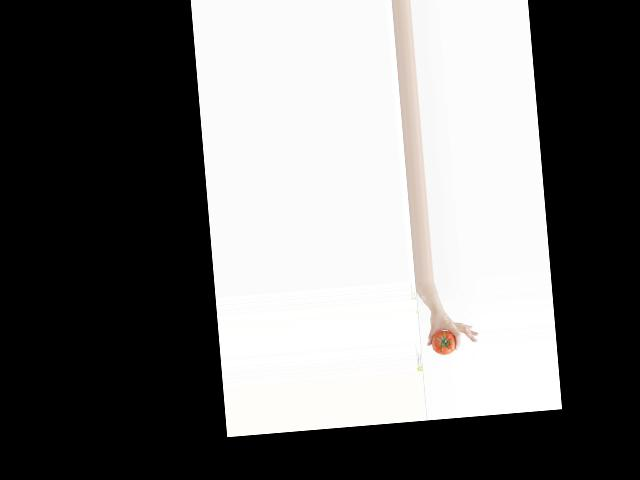tomato: (430, 329, 456, 355)
